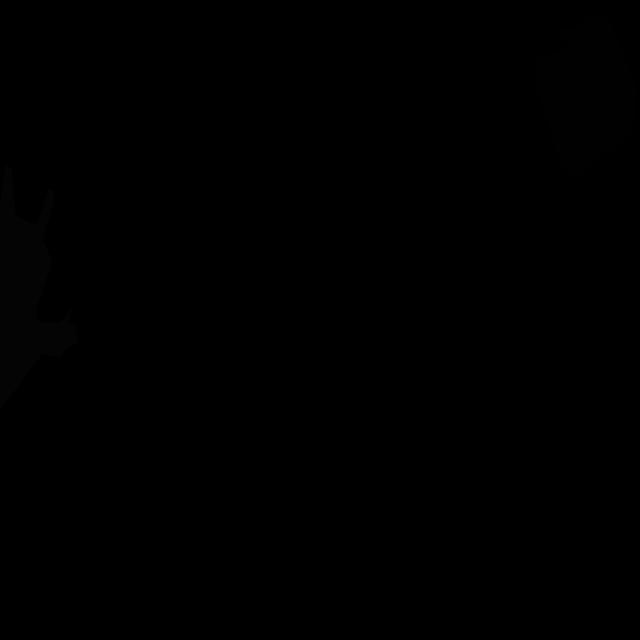rigid_plastic: (537, 14, 637, 177)
soft_plastic: (0, 165, 78, 410)
